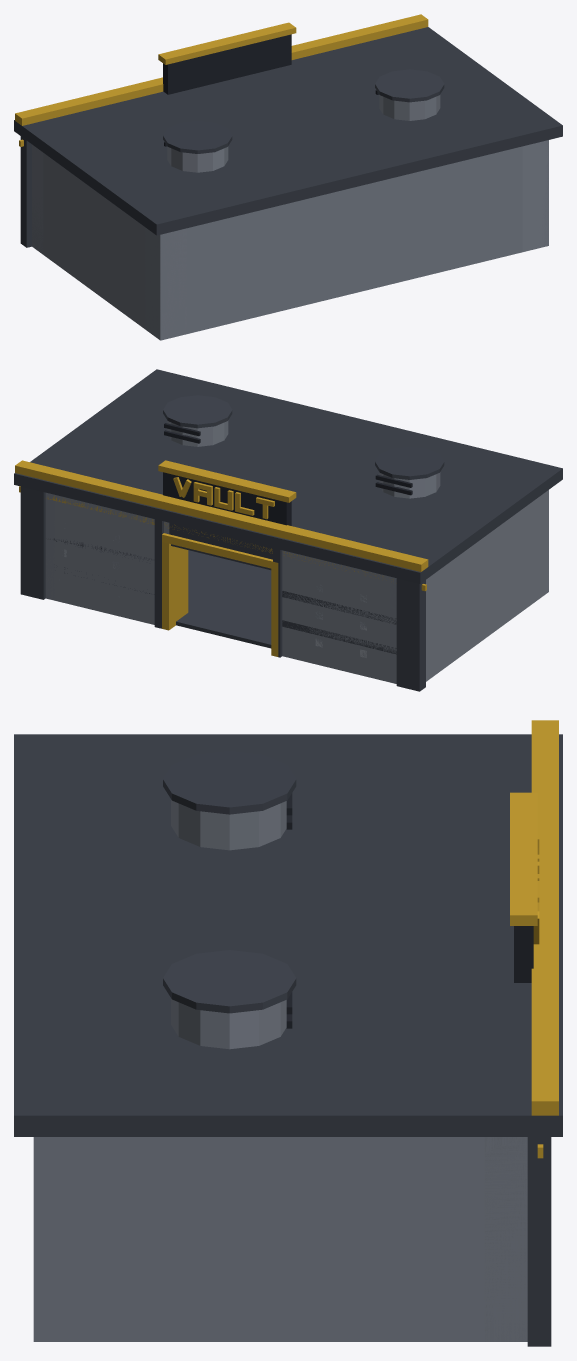
The model's file is Decor_GoldVault_Chamber.fbx.
3 views of the same model, one above another, from view 1: azimuth 30°, elevation 25°; view 2: azimuth 150°, elevation 25°; view 3: azimuth 270°, elevation 25° (orthographic). The views are drawn at different scales.
Parts seen in each view (by area): view 1: Chamber_Body; view 2: Chamber_Body; view 3: Chamber_Body.
Part boxes in pixels (x1=…): Chamber_Body: x1=14, y1=14, x2=562, y2=340; Chamber_Body: x1=14, y1=369, x2=562, y2=691; Chamber_Body: x1=14, y1=720, x2=562, y2=1346.
Size of the model in its own units: 46 by 17.2 by 28.
